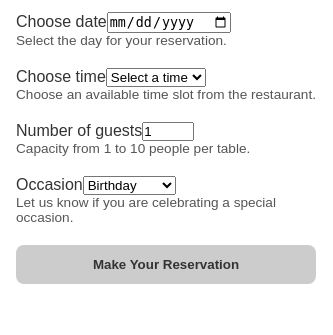
JavaScript Form Validation and Submission › Submit button is disabled if guests are outside valid range (invalid state)
Fill in the fields with an invalid guest count (0)
Type "2026-10-15" into the date field labelled "Choose date" at (169, 23), box [107,12,231,33]
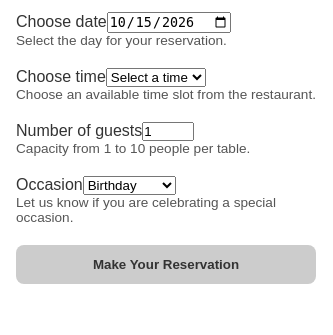
Select "17:00" in the dropdown labelled "Choose time" at (156, 78), box [106,68,206,87]
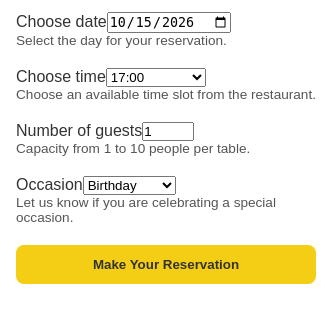
Select "Birthday" in the dropdown labelled "Occasion" at (129, 186), box [83,176,176,195]
Type "0" into the number field labelled "Number of guests" at (168, 132), box [142,122,194,141]
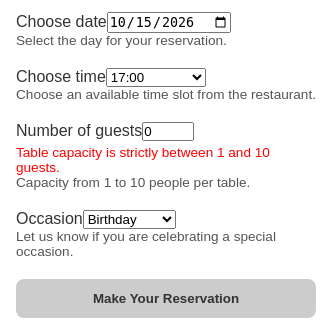
Expected: the button with aria-label "confirm and make your reservation" is disabled, [16,279,316,318]
